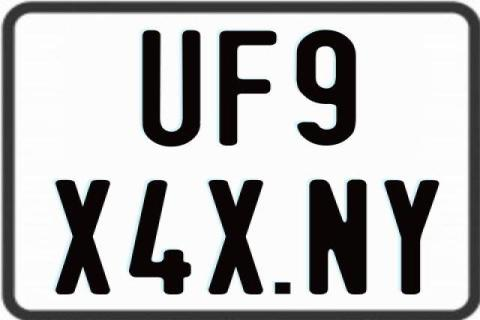0: (126, 180, 191, 298), (293, 30, 353, 148)
F: (219, 28, 282, 145)
N: (306, 177, 365, 295)
U: (142, 29, 203, 149)
X: (207, 178, 266, 296), (56, 178, 112, 298)
Y: (381, 179, 441, 297)
